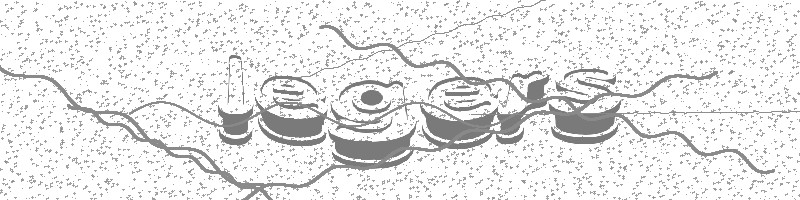e: (419, 73, 495, 148), (254, 72, 328, 149)
g: (328, 77, 416, 170)
l: (216, 49, 258, 147)
r: (497, 71, 550, 144)
s: (550, 67, 620, 144)
